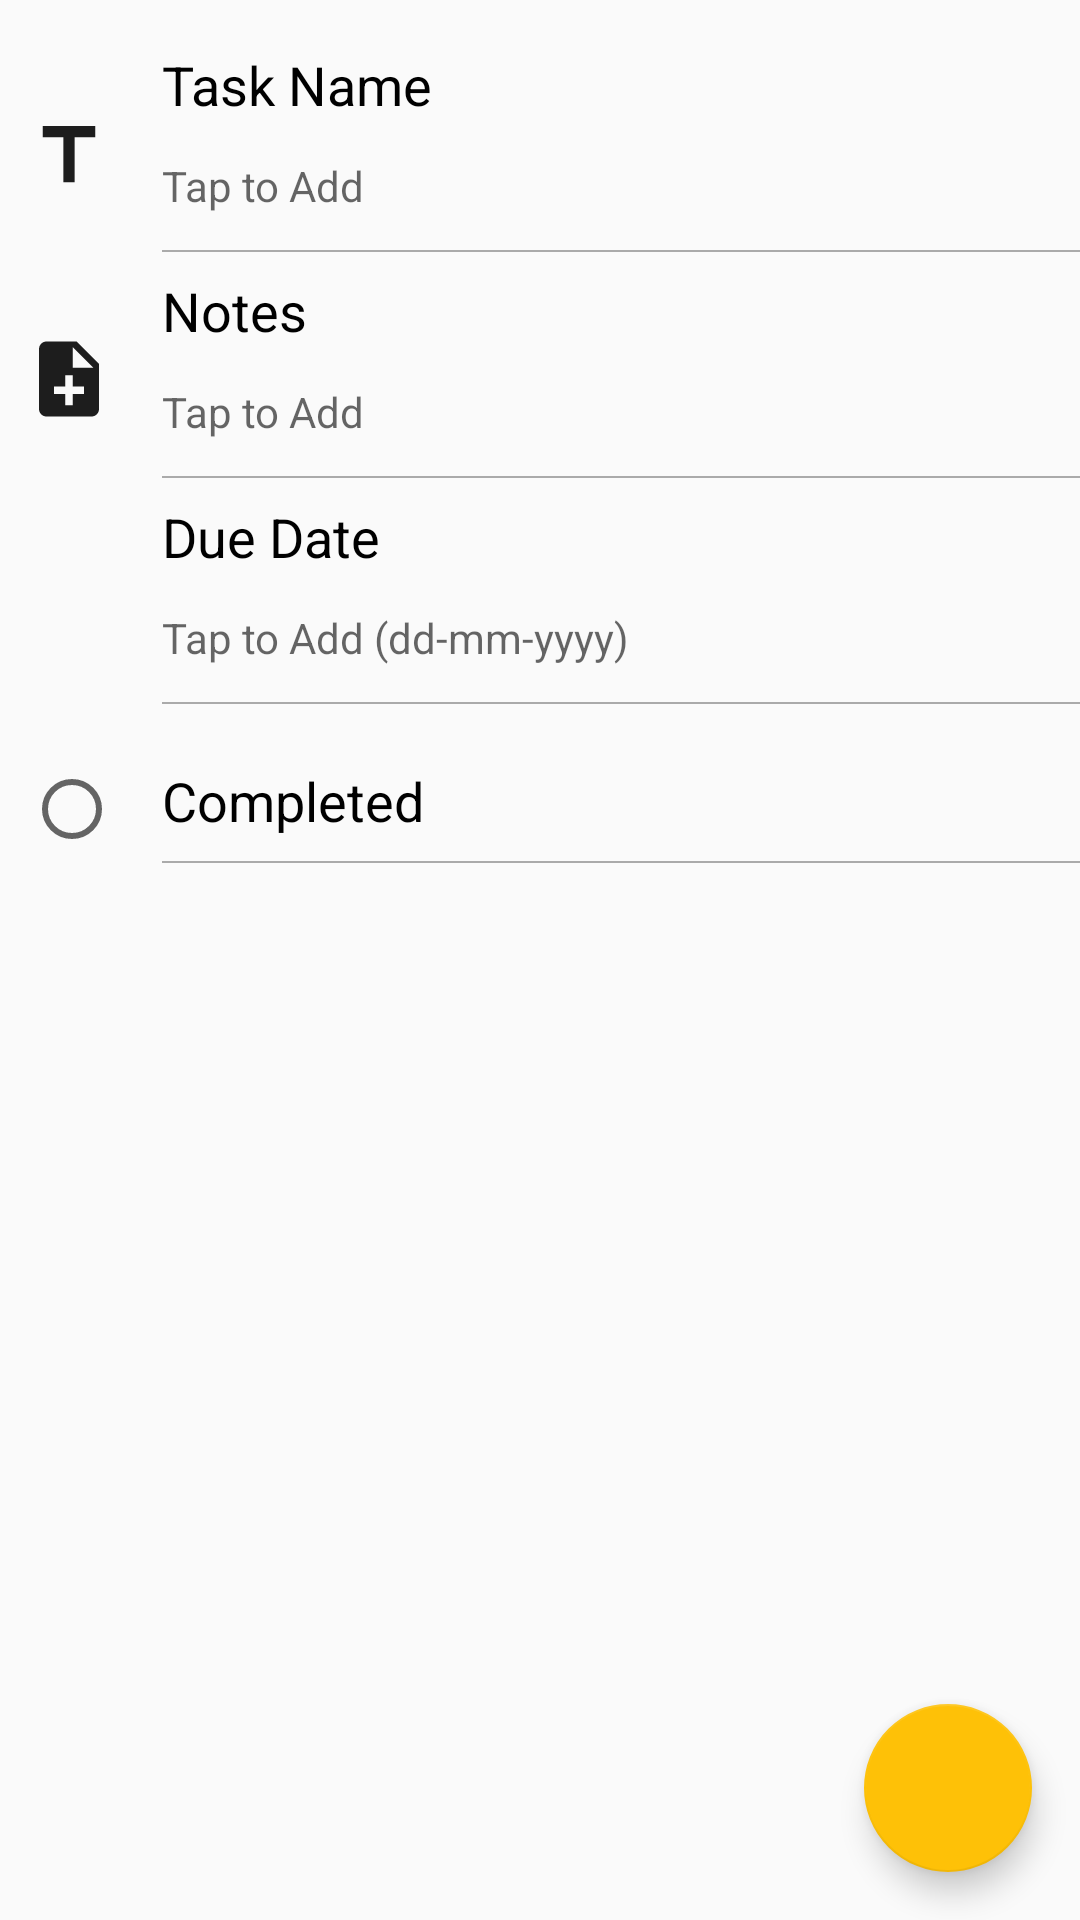

Named icons in this screenshot (1080px x 1920px) and their centers, (x=x, y=y):
note add: (x=69, y=379)
title: (x=69, y=154)
